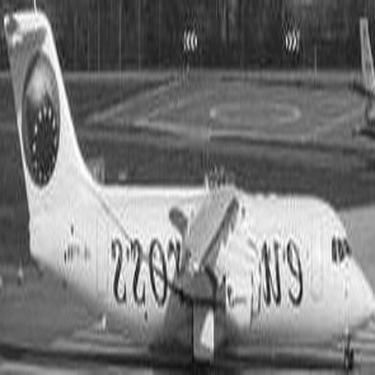airplane: (1, 7, 371, 371)
